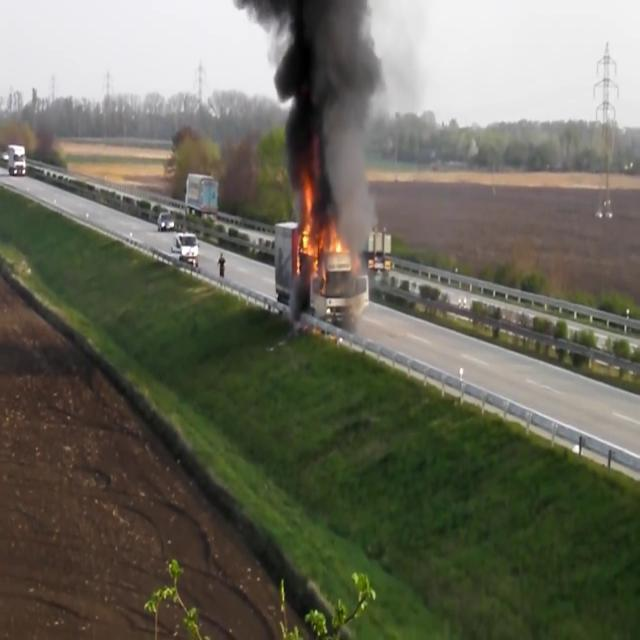Fire: (294, 176, 352, 276)
Smoke: (251, 0, 392, 226)
